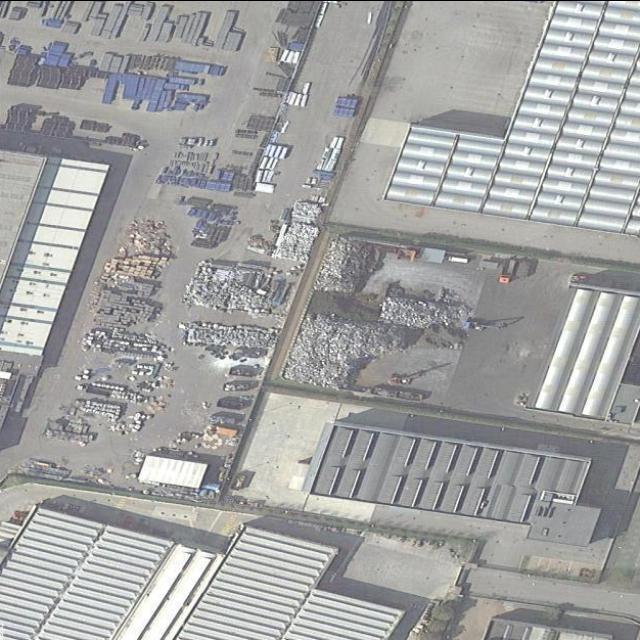dump_site: (37, 207, 235, 449), (281, 309, 425, 396), (177, 252, 295, 316), (373, 291, 477, 333), (310, 233, 379, 292), (175, 315, 282, 351), (268, 218, 320, 261), (285, 196, 327, 223), (238, 232, 270, 255), (227, 366, 253, 376), (222, 382, 247, 389)
